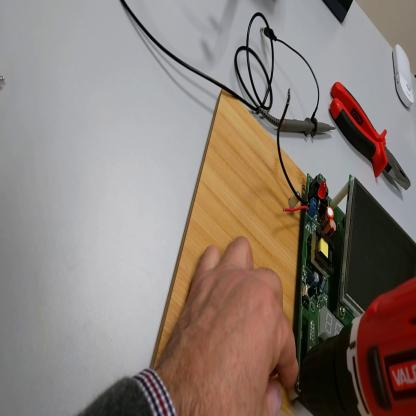electric screwdriver: (302, 280, 415, 412)
hand: (157, 241, 300, 416)
low voltage board: (277, 91, 416, 416)
oscilloscope probe tip: (265, 114, 338, 137)
pliers: (328, 83, 412, 193)
working area: (151, 91, 312, 416)
